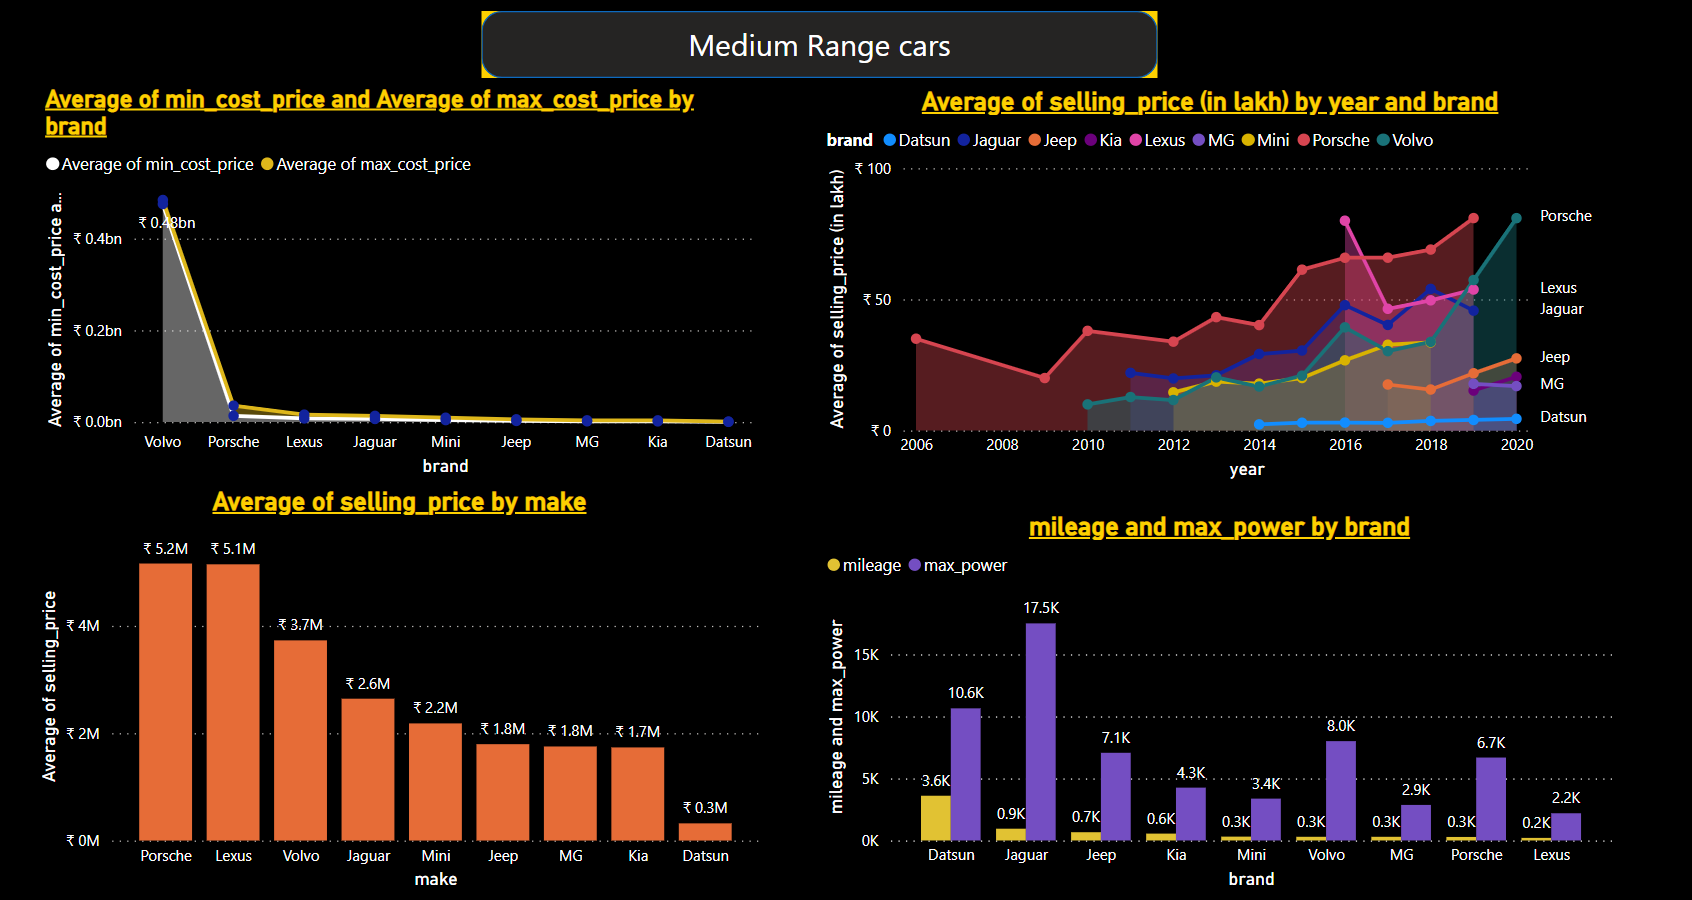

Layout of this report page (visuals, bound fields, positions):
{"tool":"powerbi","page":{"name":"Page 1","canvas":[1280,720],"ordinal":0},"visuals":[{"type":"stackedAreaChart","fields":{"Category":["cardekho_imputated.brand"],"Y":["Avg(cardekho_imputated.min_cost_price)","Avg(cardekho_imputated.max_cost_price)"]},"box":[11,66,586.8,326.4],"z":0},{"type":"clusteredColumnChart","fields":{"Y":["Avg(cardekho_imputated.selling_price)"],"Category":["cardekho_updated.make"]},"box":[11,392.4,586.8,327.6],"z":1000},{"type":"areaChart","fields":{"Y":["Avg(cardekho_updated.selling_price)"],"Category":["cardekho_updated.year"],"Series":["cardekho_imputated.brand"]},"box":[640.5,91.7,624.7,320.3],"z":2000},{"type":"clusteredColumnChart","fields":{"Y":["Sum(cardekho_imputated.mileage)","Sum(cardekho_updated.max_power)"],"Category":["cardekho_imputated.brand"]},"box":[640.5,412,639.3,308],"z":3000},{"type":"shape","box":[370.4,12.2,540.3,53.8],"z":4000},{"type":"slicer","fields":{"Values":["cardekho_imputated.brand"]},"box":[1036.6,12.2,228.6,77],"z":4001}]}

Visuals, with their boxes on the page's 1280x720 design canvas (x1, y1, x2, y2). These are canvas units, not pixel positions in the 1692x900 screenshot, which may show the page scaled, cropped or inside an application window:
stackedAreaChart - cardekho_imputated.brand x Avg(cardekho_imputated.min_cost_price): x1=11, y1=66, x2=598, y2=392
clusteredColumnChart - Avg(cardekho_imputated.selling_price) x cardekho_updated.make: x1=11, y1=392, x2=598, y2=720
areaChart - Avg(cardekho_updated.selling_price) x cardekho_updated.year: x1=640, y1=92, x2=1265, y2=412
clusteredColumnChart - Sum(cardekho_imputated.mileage) x Sum(cardekho_updated.max_power): x1=640, y1=412, x2=1280, y2=720
shape: x1=370, y1=12, x2=911, y2=66
slicer - cardekho_imputated.brand: x1=1037, y1=12, x2=1265, y2=89
